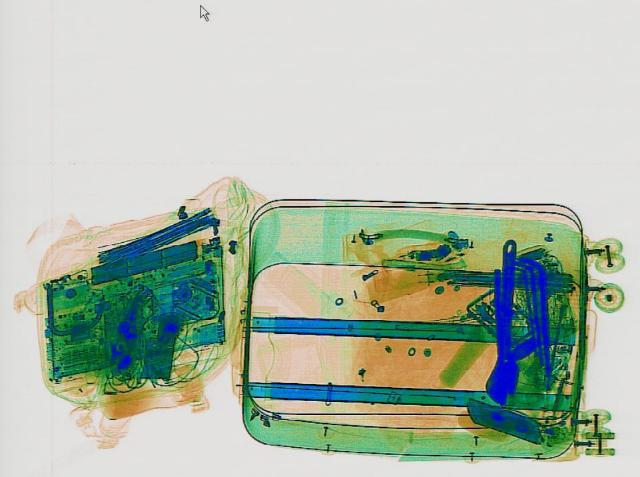Wrench: (484, 238, 526, 405)
